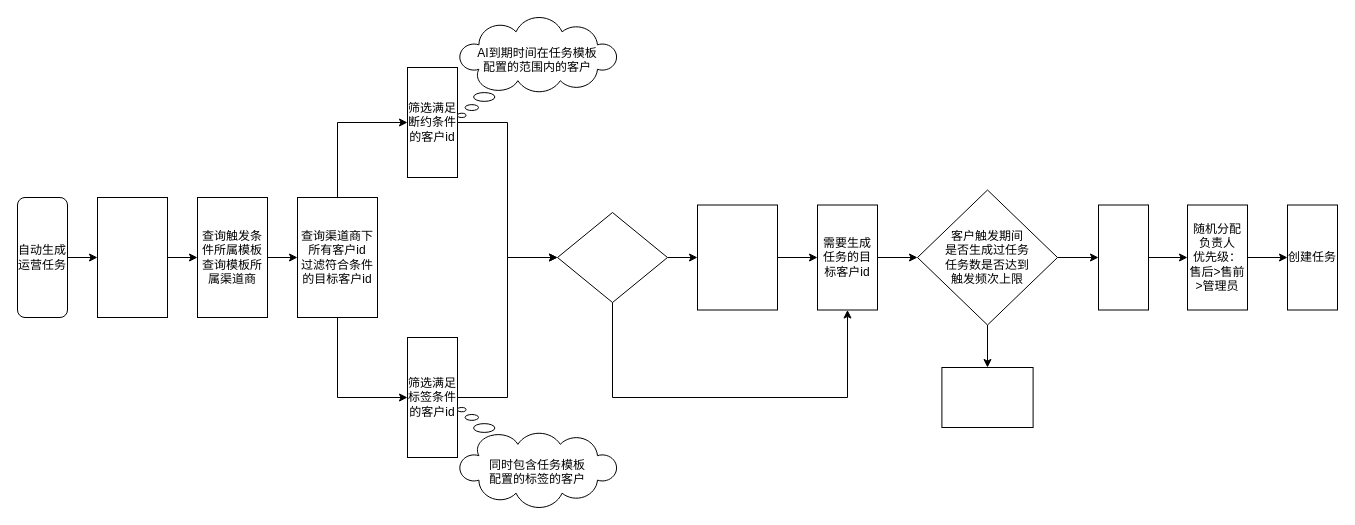
Some shapes in this 1355 by 525 pixel diagram are drawn without their labels. The centre of each missing label's shape, as x and y in pixels:
不生成任务: (x=987, y=397)
取多个子触发条件筛选出的 客户id并集: (x=737, y=257)
是否为单个 触发条件: (x=612, y=257)
查询启用状态下 任务模板的触发条件 分页去处理: (x=132, y=257)
组装任务信息: (x=1123, y=257)
